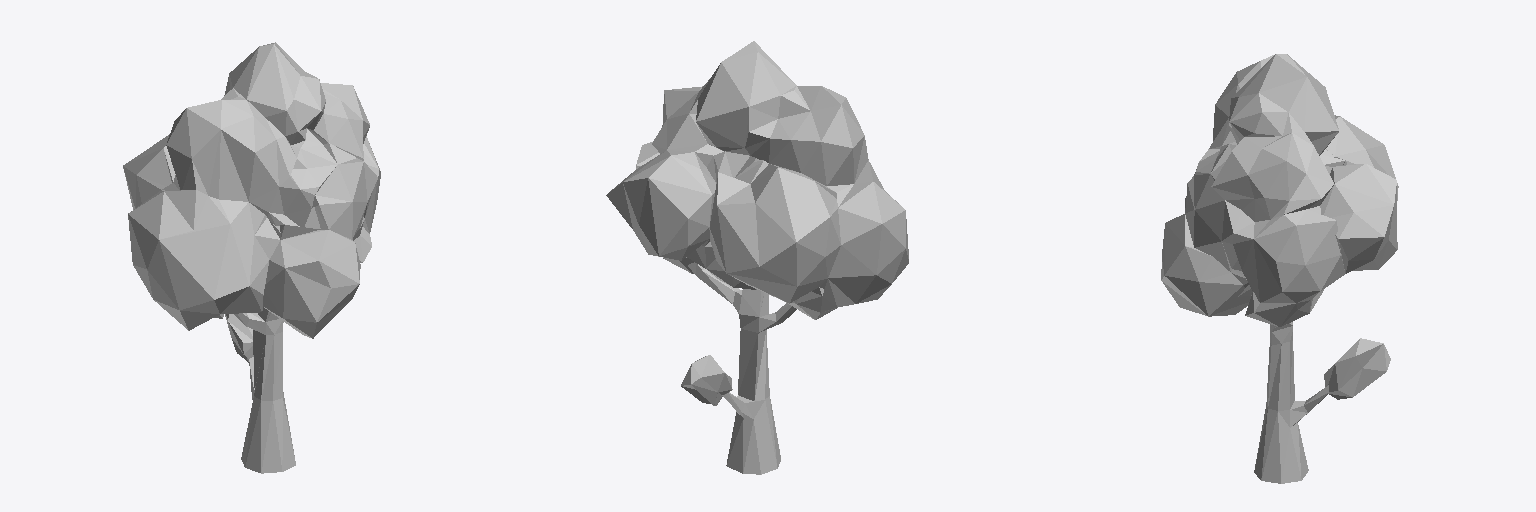
The model's file is _4_tree.obj.
3 renders of one model, left to right at view 1: azimuth 30°, elevation 25°; view 2: azimuth 150°, elevation 25°; view 3: azimuth 270°, elevation 25°, orthographic.
Visible parts, largest first — view 1: _4_tree_Icosphere.043; view 2: _4_tree_Icosphere.043; view 3: _4_tree_Icosphere.043.
Part boxes in pixels (left/top/right/bottom): _4_tree_Icosphere.043: left=123, top=42, right=380, bottom=473; _4_tree_Icosphere.043: left=606, top=41, right=908, bottom=474; _4_tree_Icosphere.043: left=1161, top=54, right=1398, bottom=483.
Bounding box in the file's own units: 1.1 × 1.8 × 0.9209.